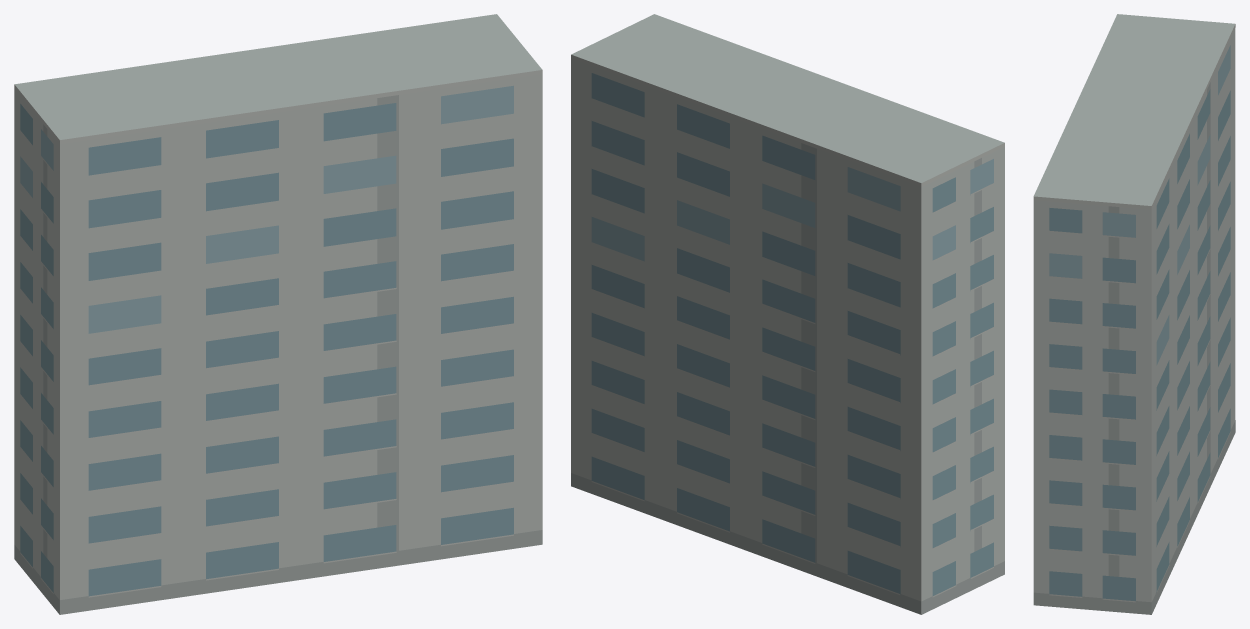
File: residential-88aff1f1-1576-4bf1-a36b-7bffda12efd7.glb
3 renders of one model, left to right at view 1: azimuth 30°, elevation 25°; view 2: azimuth 150°, elevation 25°; view 3: azimuth 270°, elevation 25°, orthographic. The views are drawn at different scales.
Visible parts, largest first — view 1: residential-88aff1f1-1576-4bf1-a36b-7bffda12efd7.tmp; view 2: residential-88aff1f1-1576-4bf1-a36b-7bffda12efd7.tmp; view 3: residential-88aff1f1-1576-4bf1-a36b-7bffda12efd7.tmp.
Boxes of the visible parts, <box> form: residential-88aff1f1-1576-4bf1-a36b-7bffda12efd7.tmp: <box>14,14,542,614</box>; residential-88aff1f1-1576-4bf1-a36b-7bffda12efd7.tmp: <box>571,14,1004,614</box>; residential-88aff1f1-1576-4bf1-a36b-7bffda12efd7.tmp: <box>1033,14,1235,614</box>.
Size of the model in its own units: 27.67 by 27.45 by 12.3.
